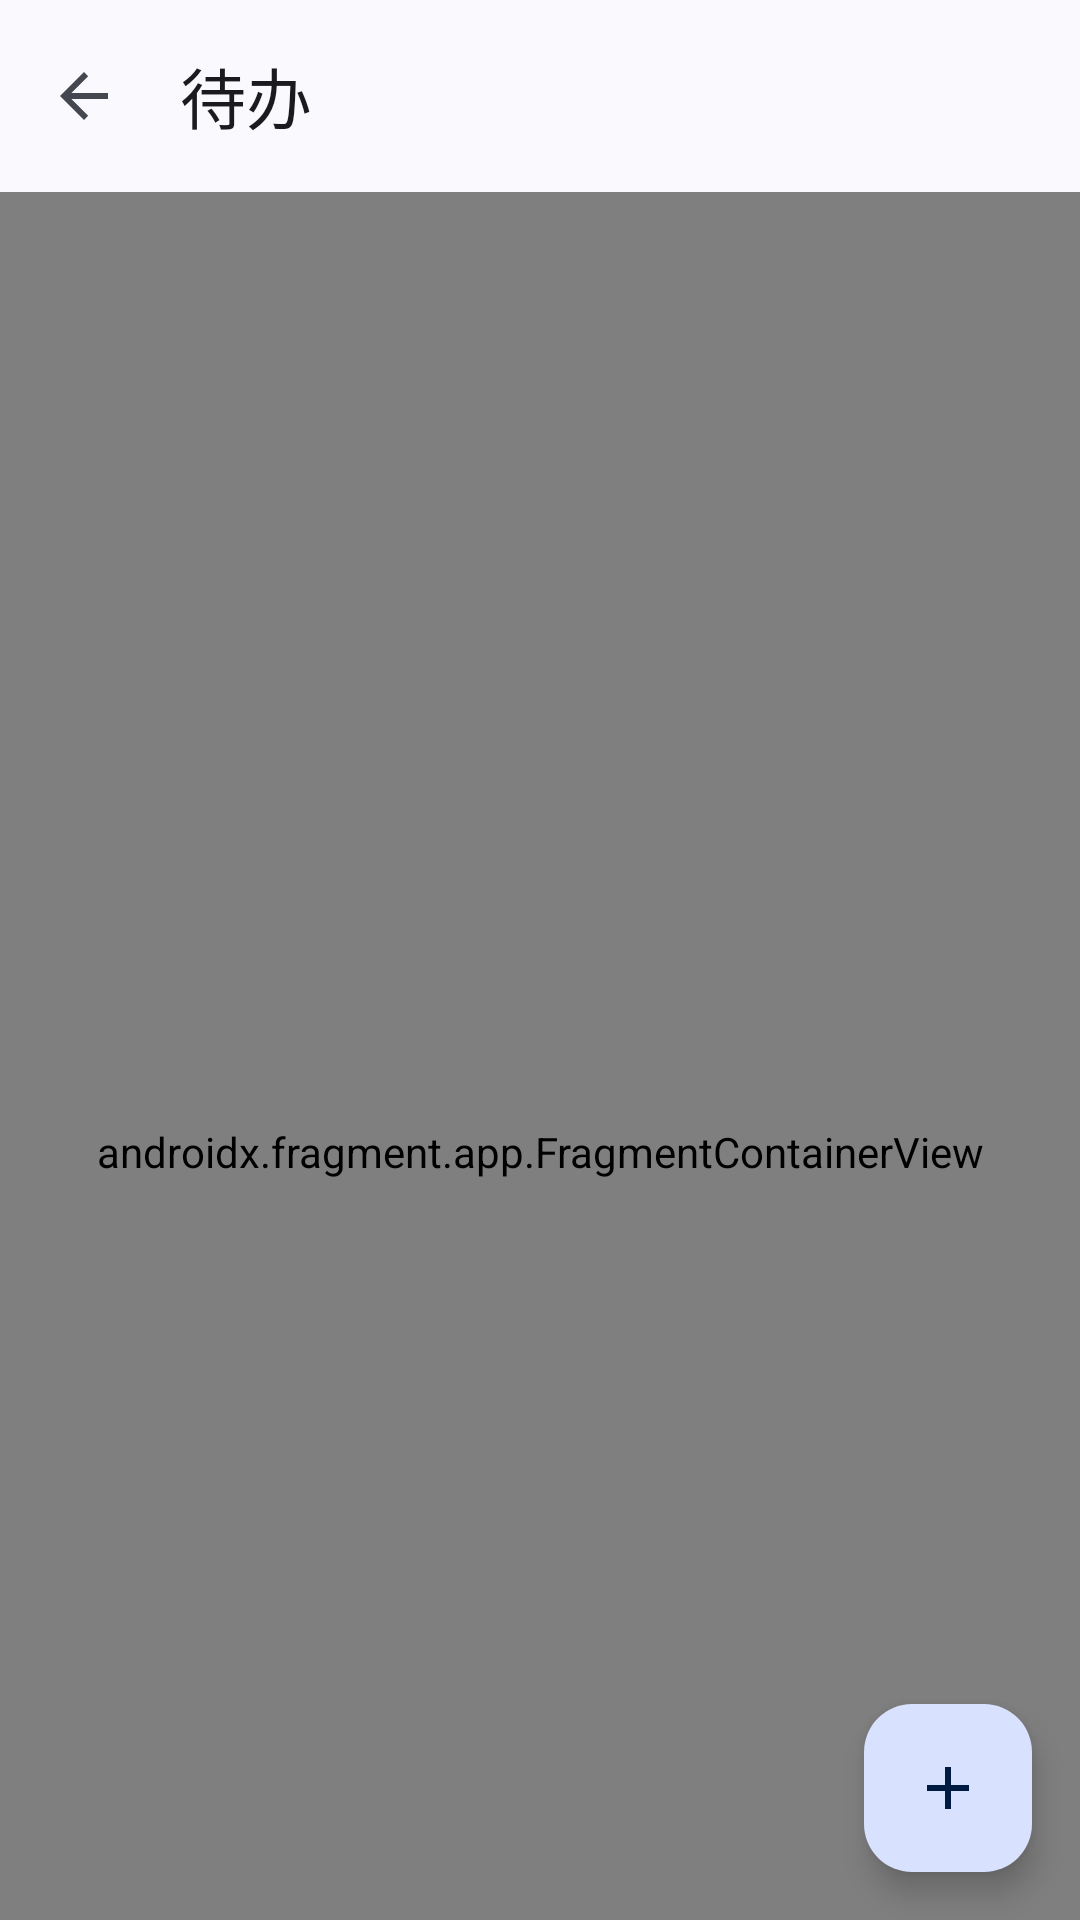

Where to tap for icons on this 1080 × 1920 app screen, as (x=x, y=y):
添加待办: (x=948, y=1788)
